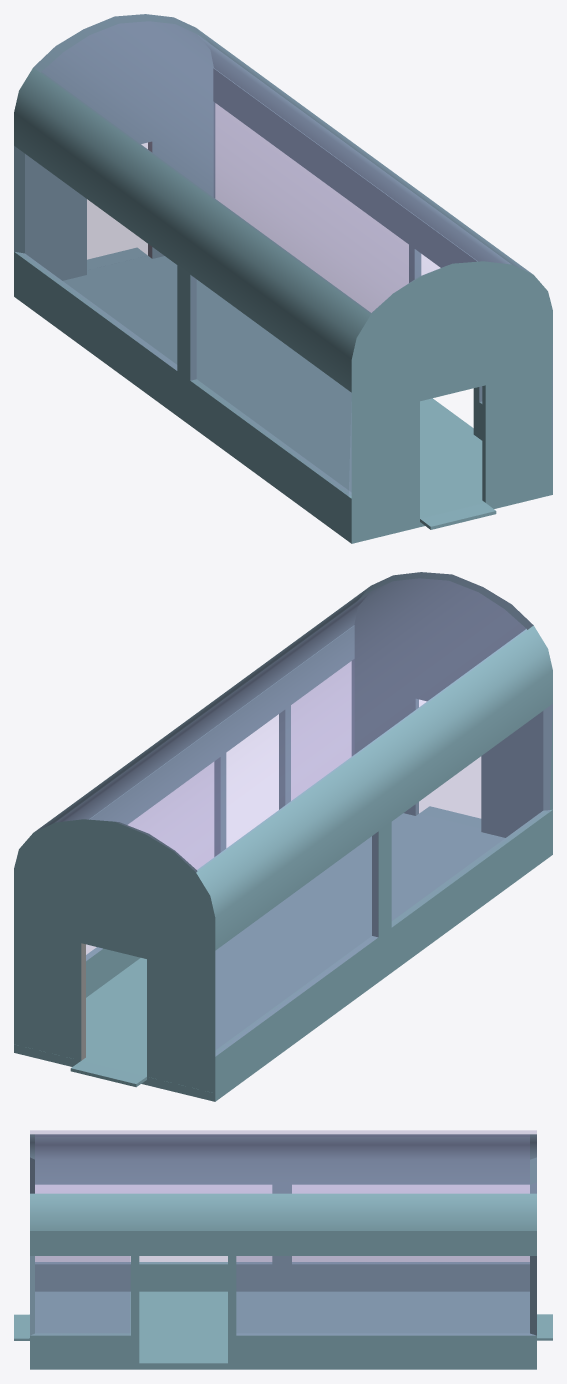
The model's file is blockout train 2 doors finished.fbx.
3 views of the same model, one above another, from view 1: azimuth 30°, elevation 25°; view 2: azimuth 150°, elevation 25°; view 3: azimuth 270°, elevation 25° (orthographic). The views are drawn at different scales.
Visible parts, largest first — view 1: polySurface18, voorkant_trijn; view 2: polySurface18, voorkant_trijn; view 3: polySurface18, voorkant_trijn.
Boxes of the visible parts, <box> form: polySurface18: <box>14,14,552,543</box>; voorkant_trijn: <box>213,68,552,449</box>; polySurface18: <box>14,572,552,1101</box>; voorkant_trijn: <box>86,625,354,997</box>; polySurface18: <box>14,1130,552,1369</box>; voorkant_trijn: <box>30,1231,536,1369</box>.
Size of the model in its own units: 0.051 by 0.0619 by 0.1576.
